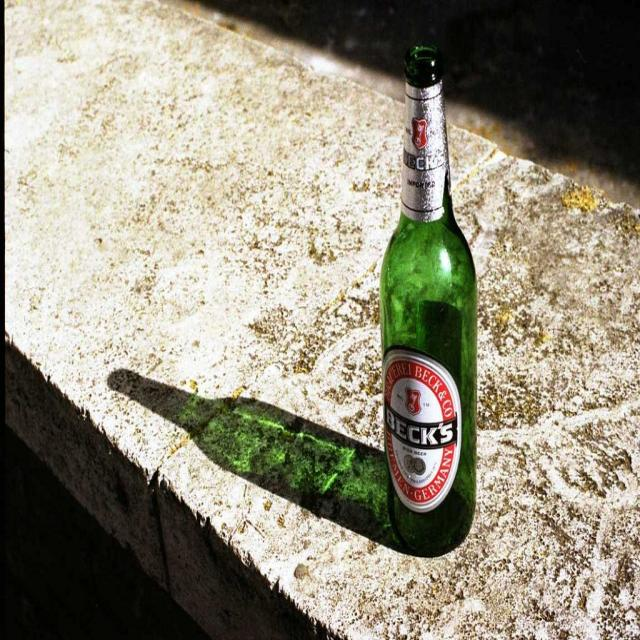becks: (384, 353, 463, 513)
